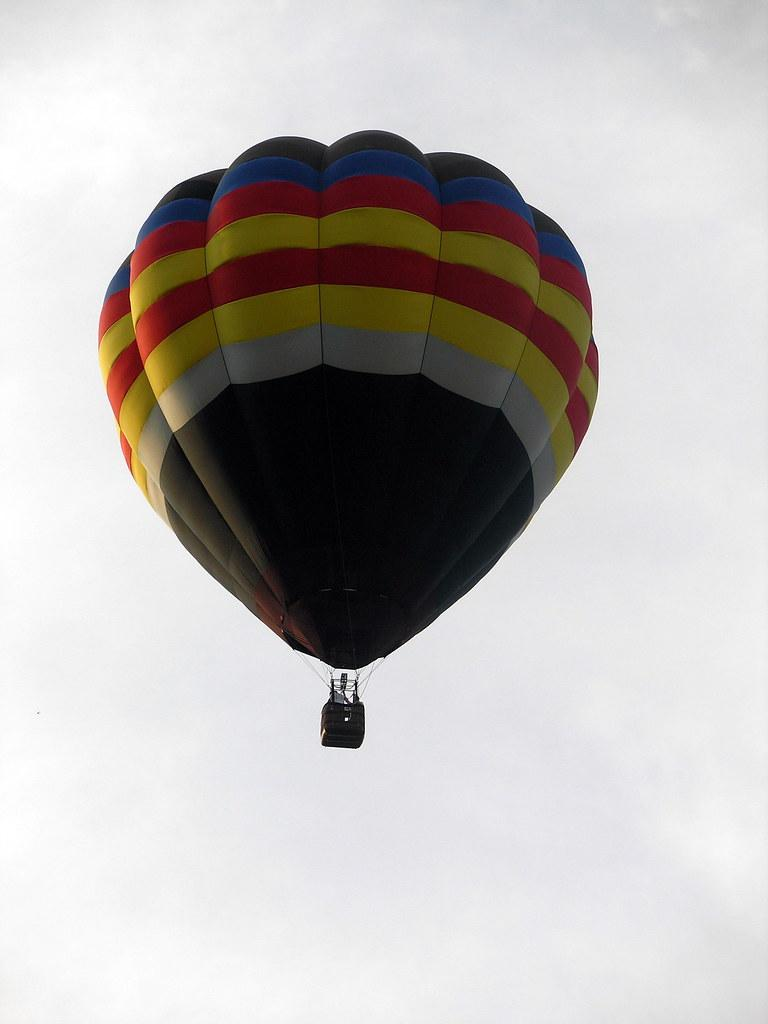balloon: (96, 128, 601, 749)
